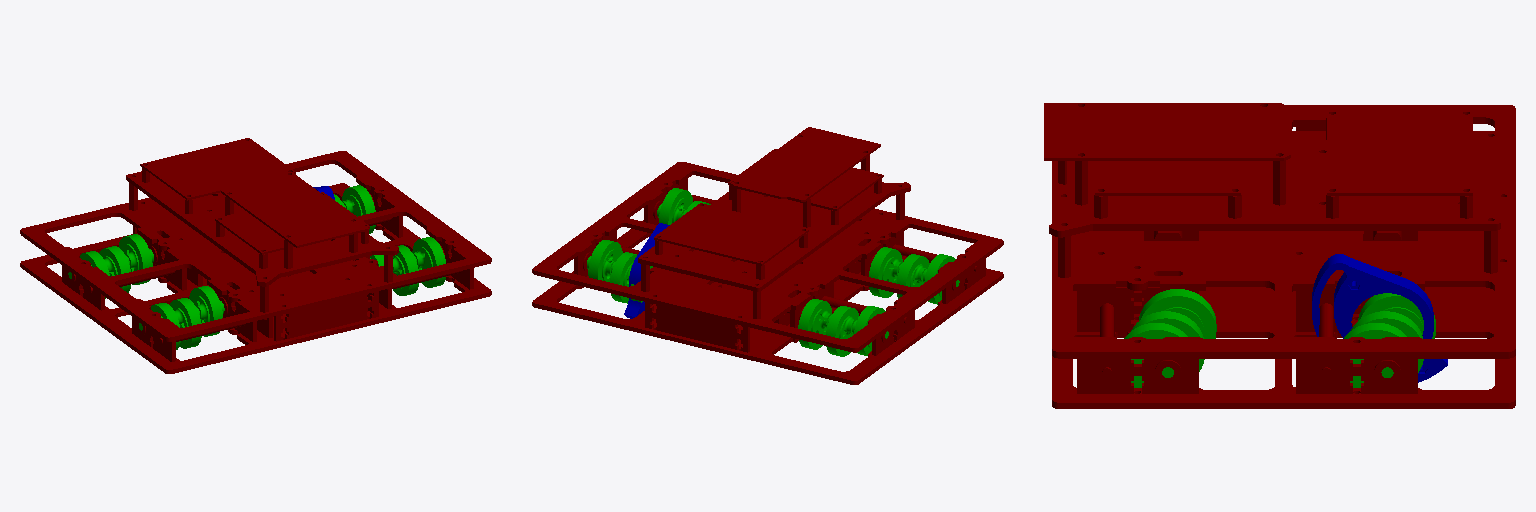
The robot description file, URDF, robot "tokuken_robot_b":
<?xml version="1.0"?>

<robot name="tokuken_robot_b">
	<link name="world"/>

	<joint name="base_joint" type="fixed">
		<parent link="world"/>
		<child link="base_link"/>
	</joint>
	<link name="base_link">
		<visual>
			<geometry>
				<mesh filename="package://tokuken_robot_description/meshes/base_ad.stl" />
			</geometry>
			<material name="red">
				<color rgba="0.5 0 0 1" />
			</material>
		</visual>
		<collision>
			<geometry>
				<mesh filename="package://tokuken_robot_description/meshes/base_ad.stl" />
			</geometry>
		</collision>
		<inertial>
        	<mass value="0.7"/><!--tekitou-->
        	<inertia ixx="0.4" ixy="0.0" ixz="0.0" iyy="0.4" iyz="0.0" izz="0.2"/>
      	</inertial>
	</link>
	<gazebo reference="base_link">
    	<material>Gazebo/Red</material>
  	</gazebo>

	<link name="a_crank_link">
		<visual>
			<geometry>
				<mesh filename="package://tokuken_robot_description/meshes/crank1_ad.stl" />
			</geometry>
			<material name="green">
				<color rgba="0 0.7 0 1" />
			</material>
		</visual>
		<collision>
			<geometry>
				<mesh filename="package://tokuken_robot_description/meshes/crank1_ad.stl" />
			</geometry>
		</collision>
		<inertial>
        	<mass value="0.2"/><!--tekitou-->
        	<inertia ixx="0.4" ixy="0.0" ixz="0.0" iyy="0.4" iyz="0.0" izz="0.2"/>
      	</inertial>
	</link>
	<gazebo reference="a_crank_link">
    	<material>Gazebo/Blue</material>
  	</gazebo>

	<link name="d_crank_link">
		<visual>
			<geometry>
				<mesh filename="package://tokuken_robot_description/meshes/crank1_ad.stl" />
			</geometry>
			<material name="green">
				<color rgba="0 0.7 0 1" />
			</material>
		</visual>
		<collision>
			<geometry>
				<mesh filename="package://tokuken_robot_description/meshes/crank1_ad.stl" />
			</geometry>
		</collision>
		<inertial>
        	<mass value="0.2"/><!--tekitou-->
        	<inertia ixx="0.4" ixy="0.0" ixz="0.0" iyy="0.4" iyz="0.0" izz="0.2"/>
      	</inertial>
	</link>
	<gazebo reference="d_crank_link">
    	<material>Gazebo/Blue</material>
  	</gazebo>

	<link name="b_crank_link">
		<visual>
			<geometry>
				<mesh filename="package://tokuken_robot_description/meshes/crank2_ad.stl" />
			</geometry>
			<material name="green">
				<color rgba="0 0.7 0 1" />
			</material>
		</visual>
		<collision>
			<geometry>
				<mesh filename="package://tokuken_robot_description/meshes/crank1_ad.stl" />
			</geometry>
		</collision>
		<inertial>
        	<mass value="0.2"/><!--tekitou-->
        	<inertia ixx="0.4" ixy="0.0" ixz="0.0" iyy="0.4" iyz="0.0" izz="0.2"/>
      	</inertial>
	</link>
	<gazebo reference="b_crank_link">
    	<material>Gazebo/Blue</material>
  	</gazebo>

	<link name="c_crank_link">
		<visual>
			<geometry>
				<mesh filename="package://tokuken_robot_description/meshes/crank2_ad.stl" />
			</geometry>
			<material name="green">
				<color rgba="0 0.7 0 1" />
			</material>
		</visual>
		<collision>
			<geometry>
				<mesh filename="package://tokuken_robot_description/meshes/crank1_ad.stl" />
			</geometry>
		</collision>
		<inertial>
        	<mass value="0.2"/><!--tekitou-->
        	<inertia ixx="0.4" ixy="0.0" ixz="0.0" iyy="0.4" iyz="0.0" izz="0.2"/>
      	</inertial>
	</link>
	<gazebo reference="c_crank_link">
    	<material>Gazebo/Blue</material>
  	</gazebo>

	<link name="a_1_asi_link">
		<visual>
			<geometry>
				<mesh filename="package://tokuken_robot_description/meshes/asi_ad.stl" />
			</geometry>
			<material name="blue">
				<color rgba="0 0 0.7 1" />
			</material>
		</visual>
		<collision>
			<geometry>
				<mesh filename="package://tokuken_robot_description/meshes/asi_ad.stl" />
			</geometry>
		</collision>
		<inertial>
        	<mass value="0.05"/><!--tekitou-->
        	<inertia ixx="0.4" ixy="0.0" ixz="0.0" iyy="0.4" iyz="0.0" izz="0.2"/>
      	</inertial>
	</link>
	<gazebo reference="a_1_asi_link">
    	<material>Gazebo/Green</material>
  	</gazebo>

	<joint name="base_to_a" type="continuous">
		<parent link="base_link"/>
		<child link="a_crank_link"/>
		<origin xyz="-0.0777 0.1375 0.013" rpy="0 0 0"/>
		<axis xyz="1 0 0"/>
	</joint>
	<transmission name="base_a_trans">
    	<type>transmission_interface/SimpleTransmission</type>
    	<joint name="base_to_a">
      		<hardwareInterface>hardware_interface/EffortJointInterface</hardwareInterface>
    	</joint>
    	<actuator name="base_a_motor">
       		<hardwareInterface>hardware_interface/EffortJointInterface</hardwareInterface>
       		<mechanismReduction>1</mechanismReduction>
    	</actuator>
  	</transmission>

	<joint name="base_to_d" type="continuous">
		<parent link="base_link"/>
		<child link="d_crank_link"/>
		<origin xyz="-0.0777 0.0475 0.013" rpy="0 0 0"/>
		<axis xyz="1 0 0"/>
	</joint>
	<transmission name="base_d_trans">
    	<type>transmission_interface/SimpleTransmission</type>
    	<joint name="base_to_d">
      		<hardwareInterface>hardware_interface/EffortJointInterface</hardwareInterface>
    	</joint>
    	<actuator name="base_d_motor">
       		<hardwareInterface>hardware_interface/EffortJointInterface</hardwareInterface>
       		<mechanismReduction>1</mechanismReduction>
    	</actuator>
  	</transmission>

	<joint name="base_to_b" type="continuous">
		<parent link="base_link"/>
		<child link="b_crank_link"/>
		<origin xyz="-0.1623 0.1375 0.013" rpy="0 0 0"/>
		<axis xyz="1 0 0"/>
	</joint>
	<transmission name="base_b_trans">
    	<type>transmission_interface/SimpleTransmission</type>
    	<joint name="base_to_b">
      		<hardwareInterface>hardware_interface/EffortJointInterface</hardwareInterface>
    	</joint>
    	<actuator name="base_b_motor">
       		<hardwareInterface>hardware_interface/EffortJointInterface</hardwareInterface>
       		<mechanismReduction>1</mechanismReduction>
    	</actuator>
  	</transmission>

	<joint name="base_to_c" type="continuous">
		<parent link="base_link"/>
		<child link="c_crank_link"/>
		<origin xyz="-0.1623 0.0475 0.013" rpy="0 0 0"/>
		<axis xyz="1 0 0"/>
	</joint>
	<transmission name="base_c_trans">
    	<type>transmission_interface/SimpleTransmission</type>
    	<joint name="base_to_c">
      		<hardwareInterface>hardware_interface/EffortJointInterface</hardwareInterface>
    	</joint>
    	<actuator name="base_c_motor">
       		<hardwareInterface>hardware_interface/EffortJointInterface</hardwareInterface>
       		<mechanismReduction>1</mechanismReduction>
    	</actuator>
  	</transmission>

	<joint name="a_to_asi_1" type="continuous">
		<parent link="a_crank_link"/>
		<child link="a_1_asi_link"/>
		<origin xyz="0.016 0 0" rpy="0 0 0"/>
		<axis xyz="1 0 0"/>
	</joint>
	<transmission name="a_asi_1_trans">
    	<type>transmission_interface/SimpleTransmission</type>
    	<joint name="a_to_asi_1">
      		<hardwareInterface>hardware_interface/EffortJointInterface</hardwareInterface>
    	</joint>
    	<!--
    	<actuator name="base_c_motor">
       		<hardwareInterface>hardware_interface/EffortJointInterface</hardwareInterface>
       		<mechanismReduction>1</mechanismReduction>
    	</actuator>
    	-->
  	</transmission>


	<gazebo>
    	<plugin name="gazebo_ros_control" filename="libgazebo_ros_control.so">
      		<robotNamespace>/tokuken_robot_b</robotNamespace>
      		<robotSimType>gazebo_ros_control/DefaultRobotHWSim</robotSimType>
      		<legacyModeNS>true</legacyModeNS>
    	</plugin>
  	</gazebo>

</robot>

--- Facts derived from the render (not from the file) ---
Views: 3 orthographic renders of the robot side by side, from view 1: azimuth 30°, elevation 25°; view 2: azimuth 150°, elevation 25°; view 3: azimuth 270°, elevation 25°.
Model tokuken_robot_b with 7 links and 6 joints (5 continuous, 1 fixed), rooted at world, posed every joint at zero.
Links seen in each view (by area): view 1: base_link, c_crank_link, b_crank_link, d_crank_link, a_crank_link; view 2: base_link, b_crank_link, c_crank_link, a_crank_link, d_crank_link, a_1_asi_link; view 3: base_link, a_1_asi_link, d_crank_link, a_crank_link.
Link boxes in pixels (bbox=[...]): base_link: bbox=[20, 138, 491, 373]; c_crank_link: bbox=[139, 286, 224, 349]; b_crank_link: bbox=[68, 234, 153, 298]; d_crank_link: bbox=[370, 237, 445, 295]; a_crank_link: bbox=[334, 185, 375, 233]; base_link: bbox=[532, 127, 1003, 384]; b_crank_link: bbox=[798, 299, 888, 356]; c_crank_link: bbox=[869, 247, 959, 304]; a_crank_link: bbox=[587, 240, 652, 303]; d_crank_link: bbox=[657, 188, 710, 224]; a_1_asi_link: bbox=[624, 223, 669, 318]; base_link: bbox=[1044, 103, 1515, 408]; a_1_asi_link: bbox=[1312, 254, 1447, 382]; d_crank_link: bbox=[1124, 289, 1216, 387]; a_crank_link: bbox=[1344, 293, 1435, 387].
Bounding box of the posed robot: 0.24 × 0.1932 × 0.0854 m (x, y, z).
6 mesh visuals loaded from 4 distinct referenced files (4 binary STL).
